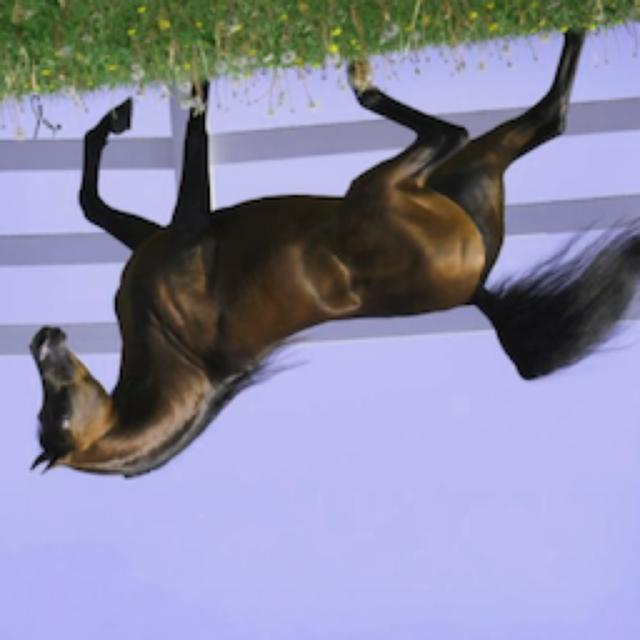Horse: (22, 25, 638, 488)
